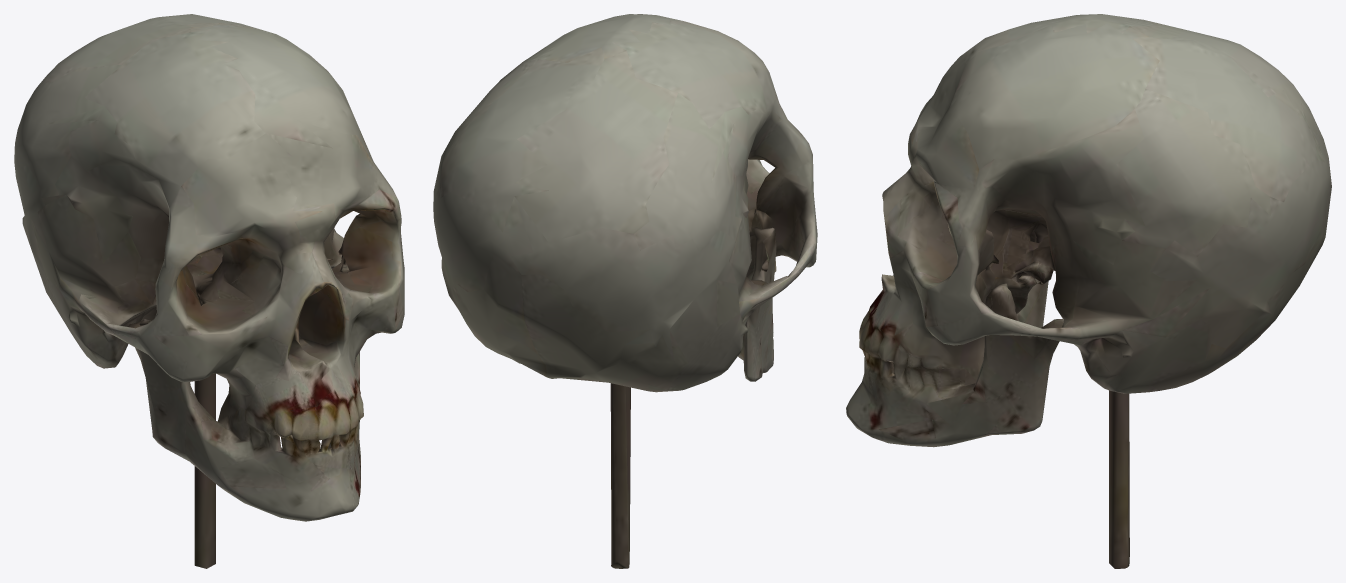
The model's file is skull3.glb.
3 renders of one model, left to right at view 1: azimuth 30°, elevation 25°; view 2: azimuth 150°, elevation 25°; view 3: azimuth 270°, elevation 25°, orthographic. The views are drawn at different scales.
Parts seen in each view (by area): view 1: Mesh_0; view 2: Mesh_0; view 3: Mesh_0.
Boxes of the visible parts, x1,y1,x2,y2 form: Mesh_0: (14,14,404,568); Mesh_0: (433,14,817,568); Mesh_0: (846,14,1331,568).
Size of the model in its own units: 1.04 by 1.9 by 1.56.
Materials: 1 (1 with a texture image).
